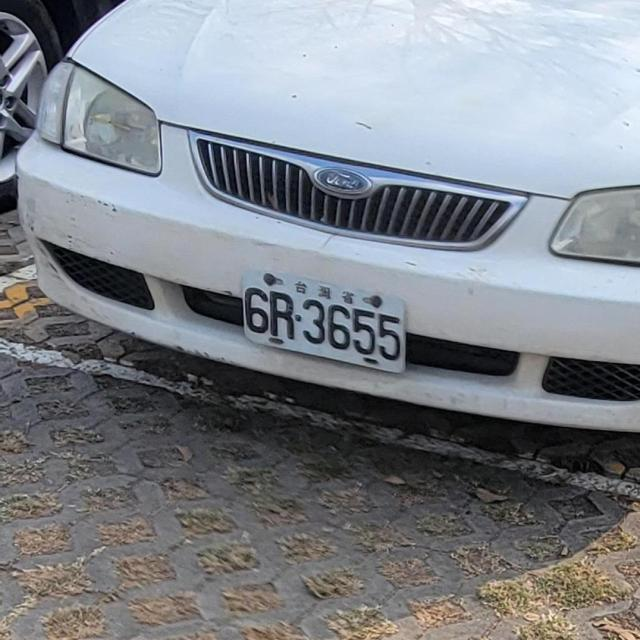W: (236, 258, 414, 378)
